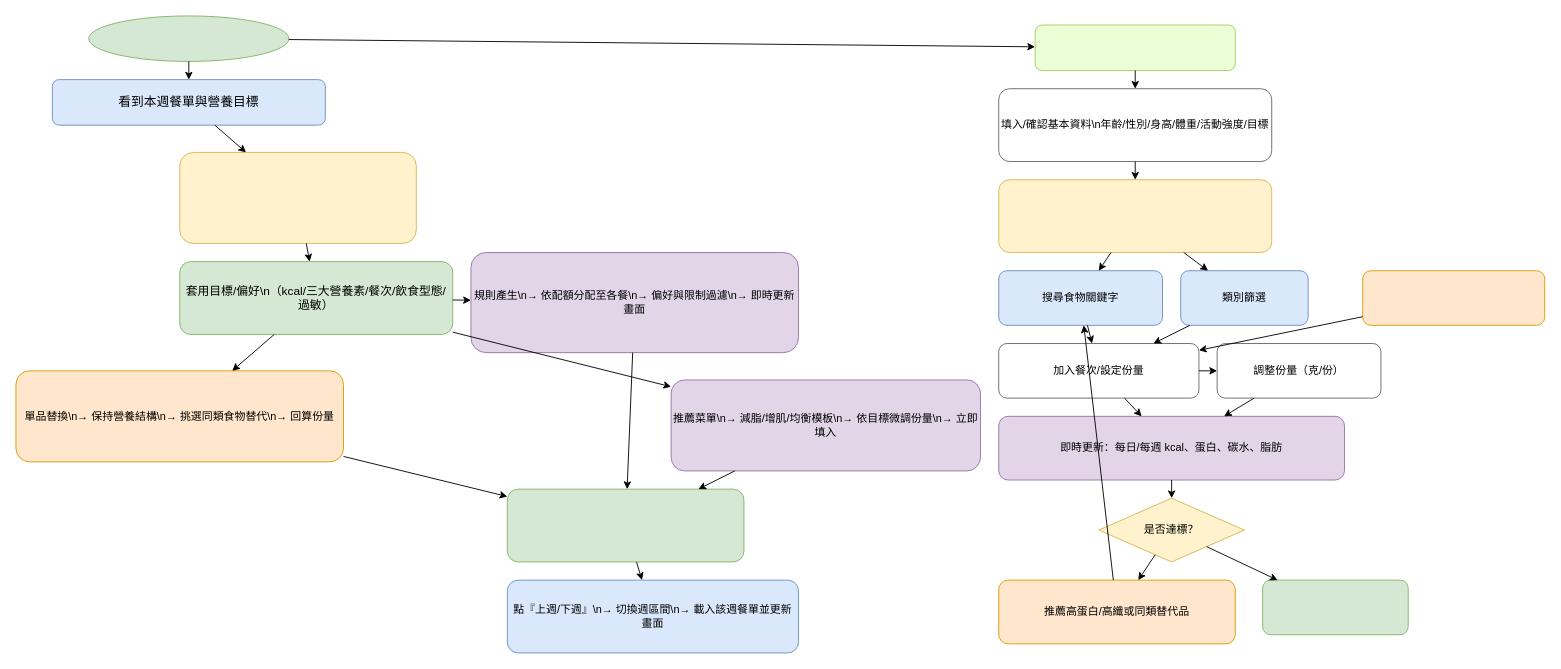
Some shapes in this 1561 by 669 pixel diagram are drawn without their labels. Here are the shapes that lost their labels. From the top down, the box of each, then its label:
(88, 15, 289, 61): 開啟飲食指南頁面
(1034, 24, 1235, 71): InBody 匯入成功提示
(179, 152, 416, 243): 選擇模式：\n• 規則產生\n• 推薦菜單\n• 單品替換
(998, 179, 1272, 253): 點『計算營養需求』\n→ 取得 kcal/蛋白/碳水/脂肪 目標
(1362, 270, 1545, 325): 手動輸入自訂食材/營養
(506, 488, 744, 562): 點『儲存餐單』\n→ 儲存本週餐單\n→ 成功提示
(1262, 579, 1408, 635): 點『儲存餐單』
